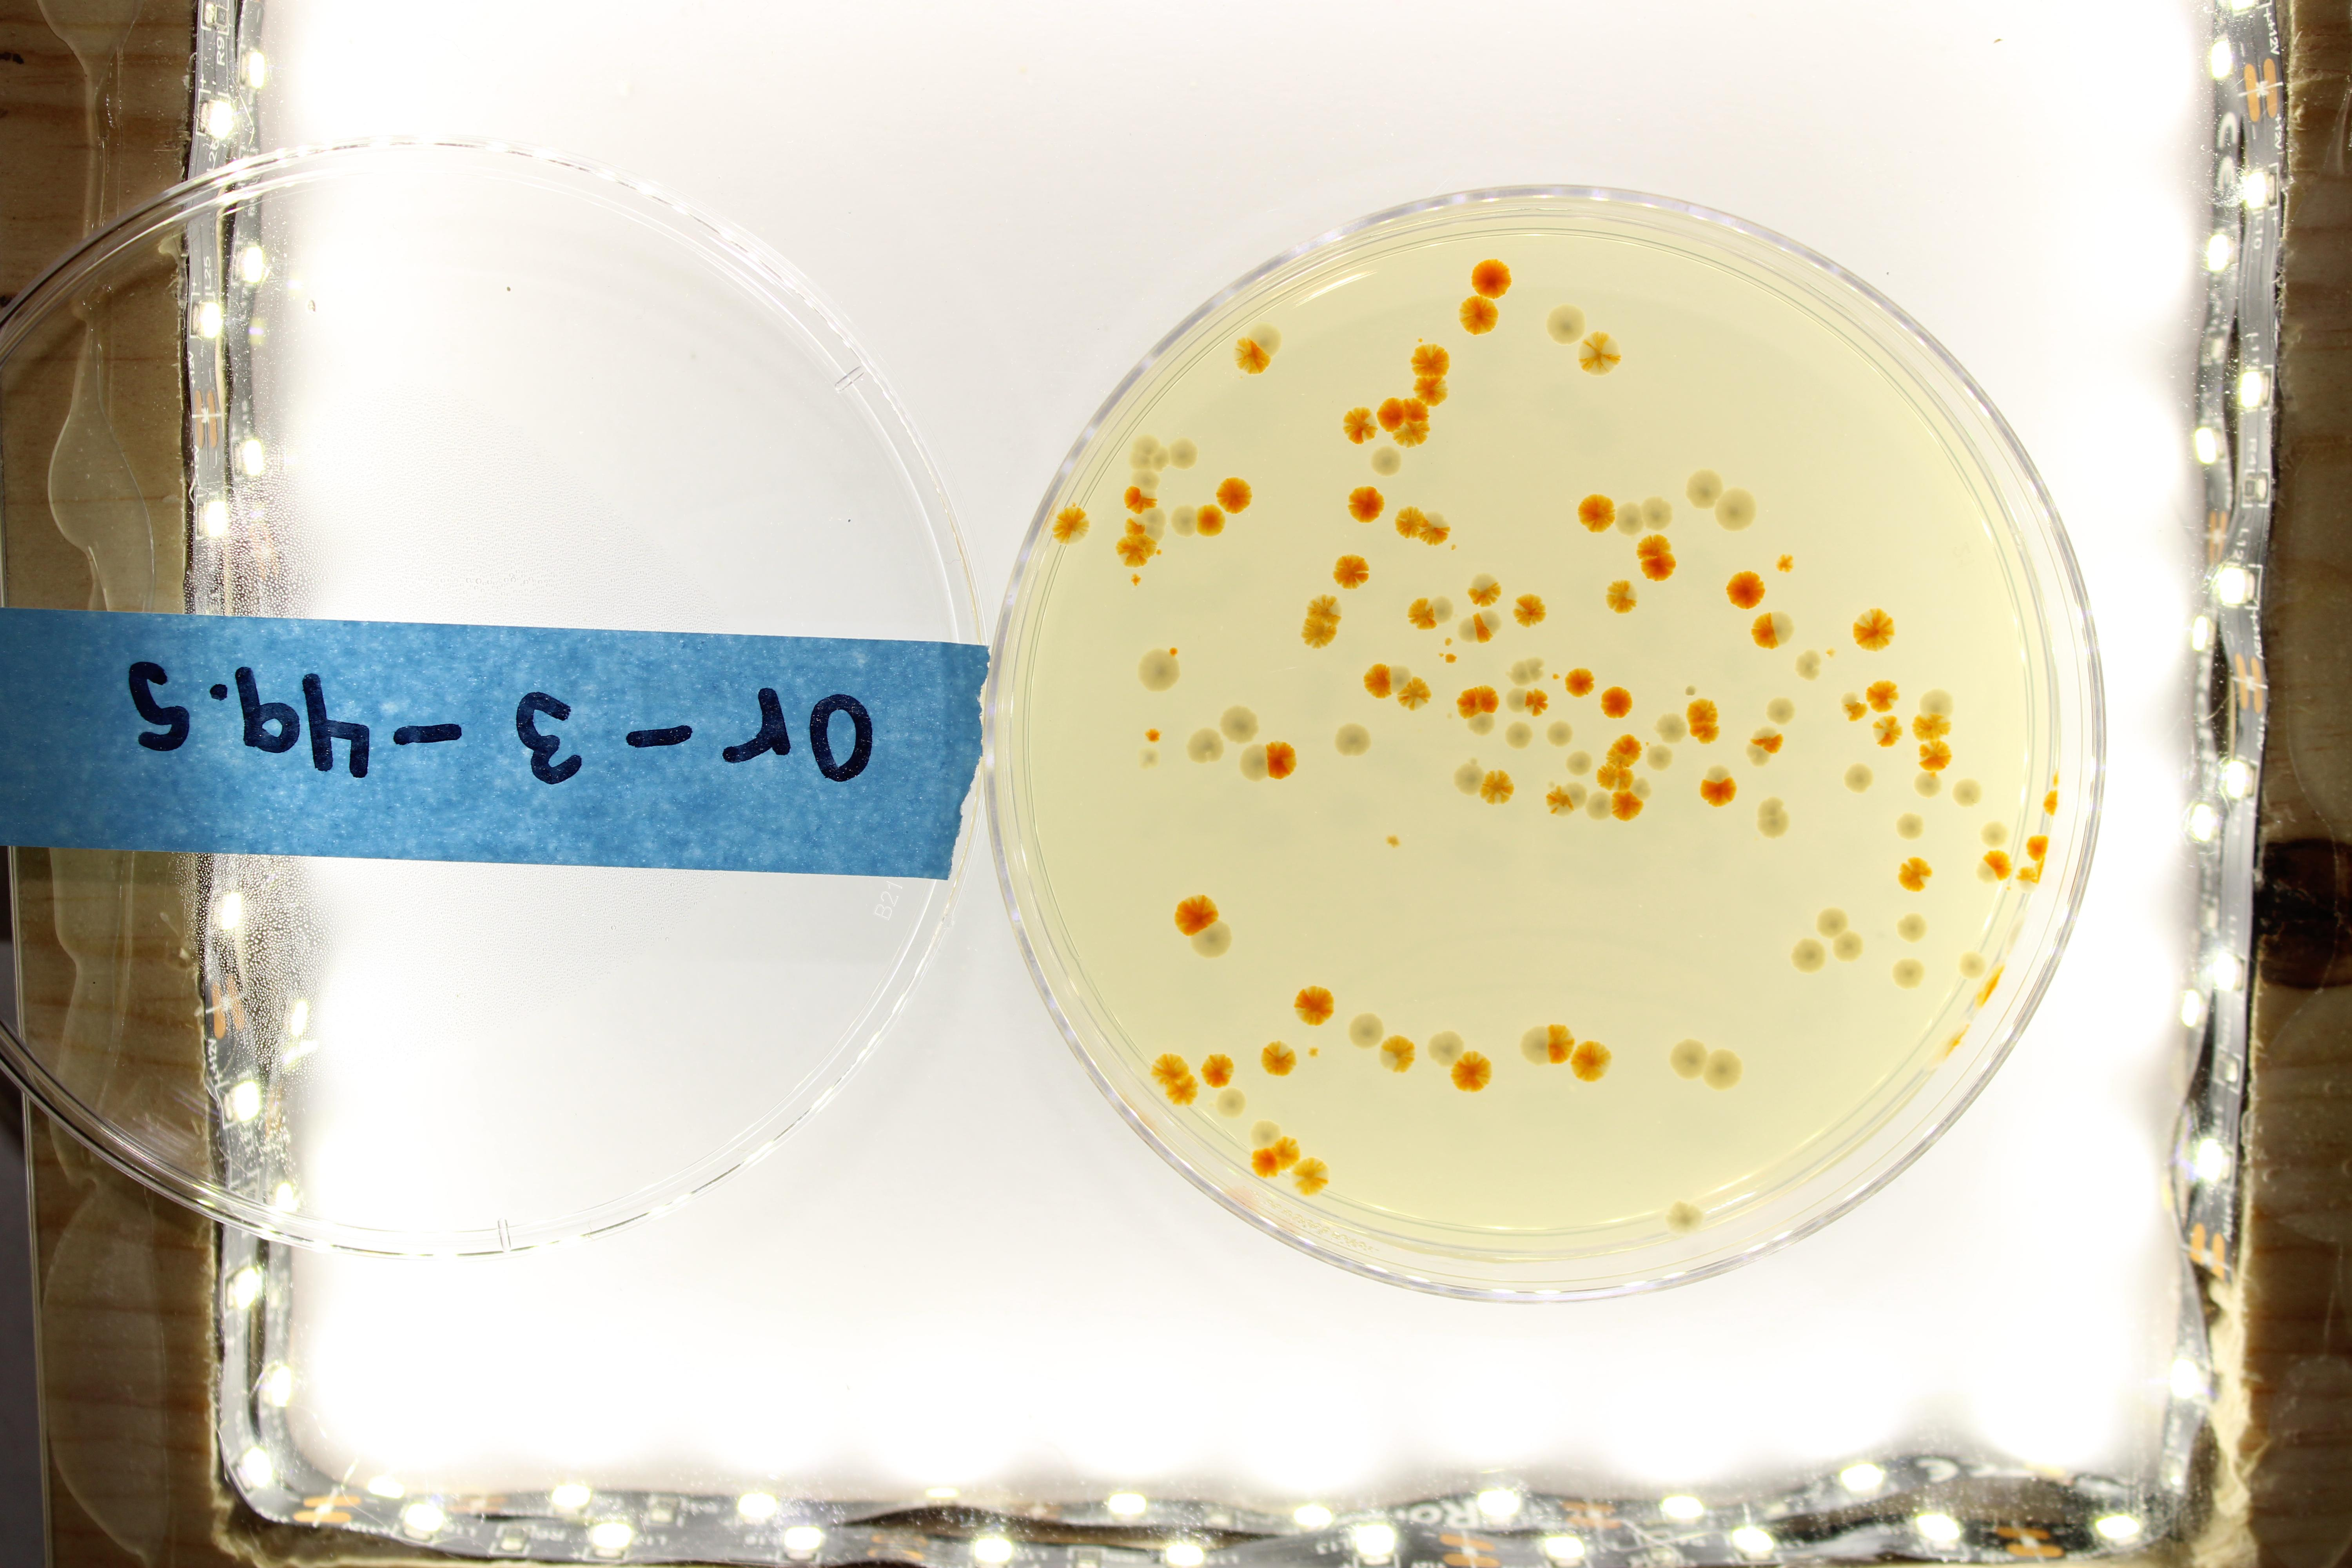orange colony: (1714, 489, 1757, 532), (1138, 650, 1180, 692), (1669, 1038, 1708, 1082), (1704, 1049, 1743, 1091), (1545, 305, 1584, 345), (1191, 920, 1232, 958), (1686, 470, 1724, 510), (1221, 704, 1259, 744), (1347, 1012, 1385, 1049), (1428, 1030, 1465, 1066), (1664, 1200, 1703, 1234), (1187, 728, 1224, 763), (1791, 938, 1826, 974), (1335, 723, 1371, 757), (1520, 1026, 1549, 1066), (1249, 323, 1283, 358), (1815, 907, 1851, 938), (1890, 958, 1926, 989), (1643, 497, 1673, 532), (1896, 912, 1929, 943), (1240, 744, 1268, 780), (1918, 688, 1955, 715), (1654, 713, 1687, 744), (1844, 763, 1875, 794), (1833, 933, 1864, 964), (1248, 1120, 1283, 1147), (1169, 439, 1199, 470), (1452, 766, 1484, 796), (1615, 503, 1643, 535), (1795, 649, 1822, 682), (1768, 609, 1793, 644), (1952, 779, 1984, 807), (1216, 1089, 1247, 1117), (1766, 696, 1795, 725), (1171, 506, 1198, 537), (1758, 813, 1789, 839), (1896, 813, 1926, 841), (1372, 449, 1401, 477), (1958, 953, 1987, 979), (1505, 722, 1533, 749), (1913, 771, 1942, 798), (1427, 596, 1454, 625), (1981, 822, 2010, 848), (1586, 791, 1612, 820), (1547, 720, 1573, 748), (1388, 663, 1410, 696), (1468, 711, 1495, 736), (1564, 751, 1591, 776), (1648, 747, 1673, 771), (1746, 742, 1769, 766), (1506, 687, 1527, 714), (1566, 785, 1588, 810), (1974, 860, 1998, 883), (1631, 778, 1653, 802), (1758, 796, 1783, 817), (1136, 748, 1160, 769), (1523, 657, 1543, 682), (1132, 435, 1159, 453), (1506, 664, 1530, 684), (1148, 448, 1169, 469), (1131, 472, 1160, 488), (1130, 453, 1151, 472), (1706, 766, 1730, 782), (1749, 728, 1777, 740), (1685, 684, 1699, 697), (1466, 756, 1479, 766), (1445, 712, 1456, 720), (1207, 1100, 1216, 1110), (1546, 782, 1556, 788)
wild colony: (1173, 893, 1221, 937), (1578, 331, 1622, 377), (1852, 608, 1896, 653), (1571, 1041, 1614, 1084), (1450, 1052, 1493, 1095), (1292, 985, 1337, 1027), (1289, 1156, 1330, 1198), (1577, 493, 1618, 534), (1459, 296, 1501, 336), (1726, 571, 1768, 609), (1472, 260, 1512, 299), (1299, 612, 1339, 650), (1976, 965, 2010, 1010), (1378, 1035, 1416, 1075), (1054, 504, 1091, 544), (1348, 486, 1388, 523), (1260, 1040, 1298, 1078), (1151, 1052, 1194, 1085), (1216, 477, 1254, 514), (1897, 856, 1934, 893), (1482, 768, 1517, 806), (1411, 343, 1450, 377), (1332, 554, 1369, 590), (1164, 1073, 1201, 1107), (1597, 687, 1635, 720), (1234, 339, 1270, 374), (1343, 407, 1377, 443), (1610, 784, 1643, 821), (1266, 741, 1298, 780), (1546, 1022, 1573, 1067), (1201, 1053, 1235, 1089), (1414, 375, 1450, 408), (1468, 573, 1502, 608), (1916, 740, 1953, 772), (1513, 594, 1546, 628), (1597, 762, 1637, 790), (1701, 776, 1737, 808), (1396, 679, 1432, 711), (1605, 579, 1637, 614), (1911, 714, 1954, 740), (1393, 419, 1433, 447), (1751, 613, 1779, 651), (1867, 679, 1900, 713), (1419, 512, 1450, 547), (1308, 594, 1343, 625), (1363, 664, 1394, 699), (1943, 1025, 1973, 1060), (1872, 716, 1904, 749), (1116, 538, 1151, 568), (1407, 599, 1439, 630), (1982, 850, 2017, 879), (1250, 1147, 1281, 1179), (1274, 1137, 1301, 1172), (1640, 555, 1677, 582), (1837, 693, 1869, 723), (1565, 668, 1597, 698), (1198, 504, 1226, 538), (1395, 507, 1424, 540), (1124, 487, 1159, 514), (1377, 398, 1404, 433), (1688, 698, 1719, 726), (1603, 744, 1639, 768), (1687, 720, 1720, 744), (1637, 534, 1671, 557), (2014, 864, 2038, 894), (1615, 733, 1643, 760), (2025, 834, 2051, 863), (1403, 397, 1430, 424), (1474, 684, 1499, 712), (1746, 736, 1784, 755), (1471, 614, 1494, 644), (1457, 690, 1480, 720), (1526, 689, 1550, 716), (2043, 786, 2059, 818), (1134, 535, 1156, 557), (1124, 519, 1147, 537), (2035, 858, 2048, 887), (1776, 555, 1797, 573), (1145, 728, 1162, 743), (1386, 834, 1401, 850), (1307, 1045, 1322, 1060), (1169, 646, 1182, 659), (2053, 768, 2060, 787), (1824, 649, 1837, 660), (1446, 543, 1459, 553), (1443, 654, 1457, 663), (1131, 575, 1142, 585), (1929, 771, 1940, 780), (2002, 884, 2013, 893), (1444, 637, 1453, 647), (1156, 547, 1163, 557), (1552, 673, 1561, 682), (1238, 374, 1245, 380), (1439, 651, 1444, 657), (1420, 339, 1424, 342)
